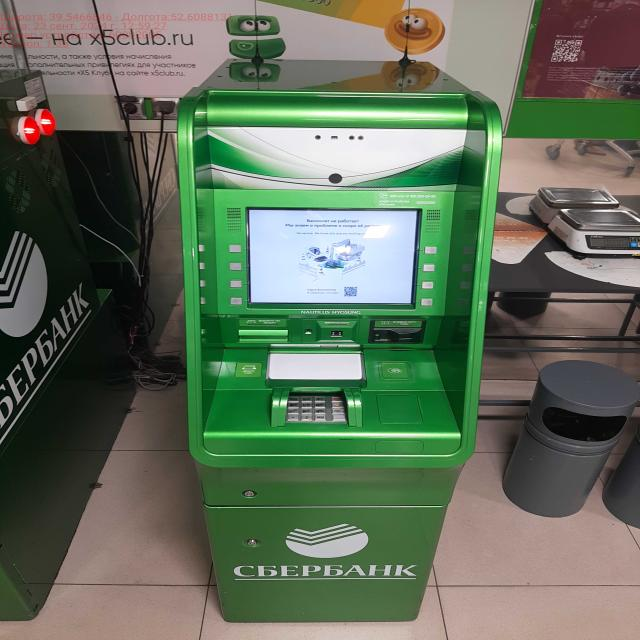bank: (176, 60, 499, 623), (0, 69, 133, 622)
